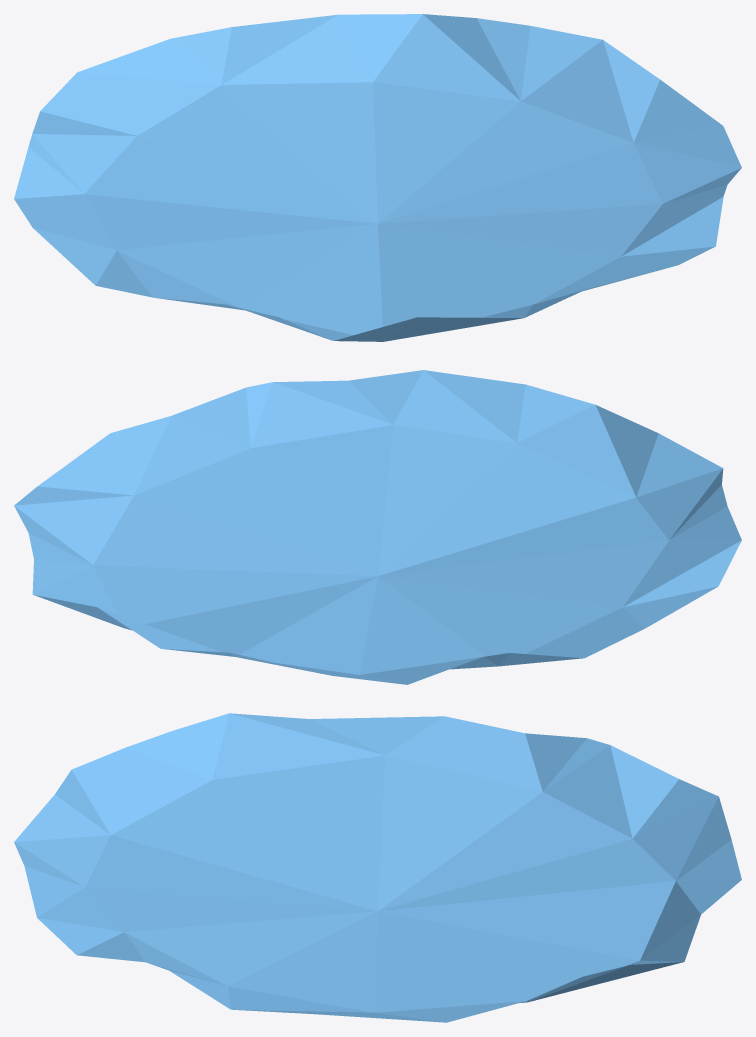
The model's file is skybox_horizonShape.obj.
3 renders of one model, top to bottom at view 1: azimuth 30°, elevation 25°; view 2: azimuth 150°, elevation 25°; view 3: azimuth 270°, elevation 25°, orthographic. The views are drawn at different scales.
Parts seen in each view (by area): view 1: skybox_horizonShape; view 2: skybox_horizonShape; view 3: skybox_horizonShape.
Boxes of the visible parts, x1,y1,x2,y2 form: skybox_horizonShape: (14,14,741,341); skybox_horizonShape: (14,370,741,684); skybox_horizonShape: (14,713,741,1022).
Size of the model in its own units: 1131 by 102 by 1146.
Materials: 1 (1 with a texture image).
